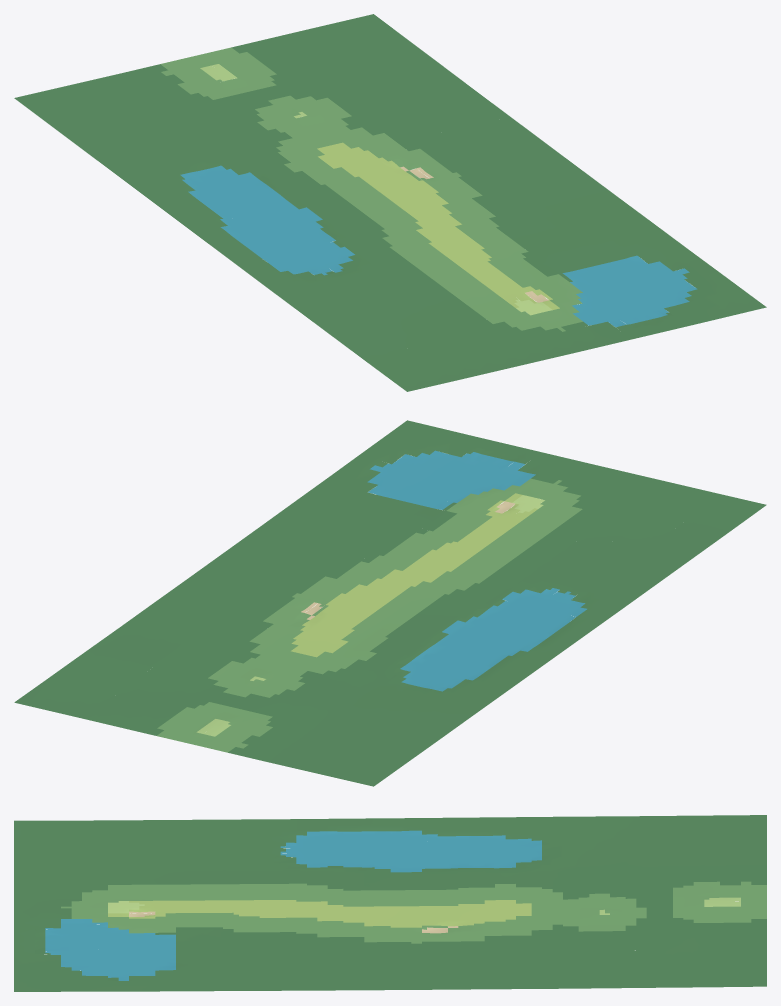
File: terrain.glb
3 views of the same model, one above another, from view 1: azimuth 30°, elevation 25°; view 2: azimuth 150°, elevation 25°; view 3: azimuth 270°, elevation 25° (orthographic). The views are drawn at different scales.
Parts seen in each view (by area): view 1: terrain; view 2: terrain; view 3: terrain.
Boxes of the visible parts, x1,y1,x2,y2 form: terrain: (14, 14, 766, 391); terrain: (14, 420, 766, 786); terrain: (14, 815, 766, 991).
Size of the model in its own units: 236 by 5.82 by 447.
